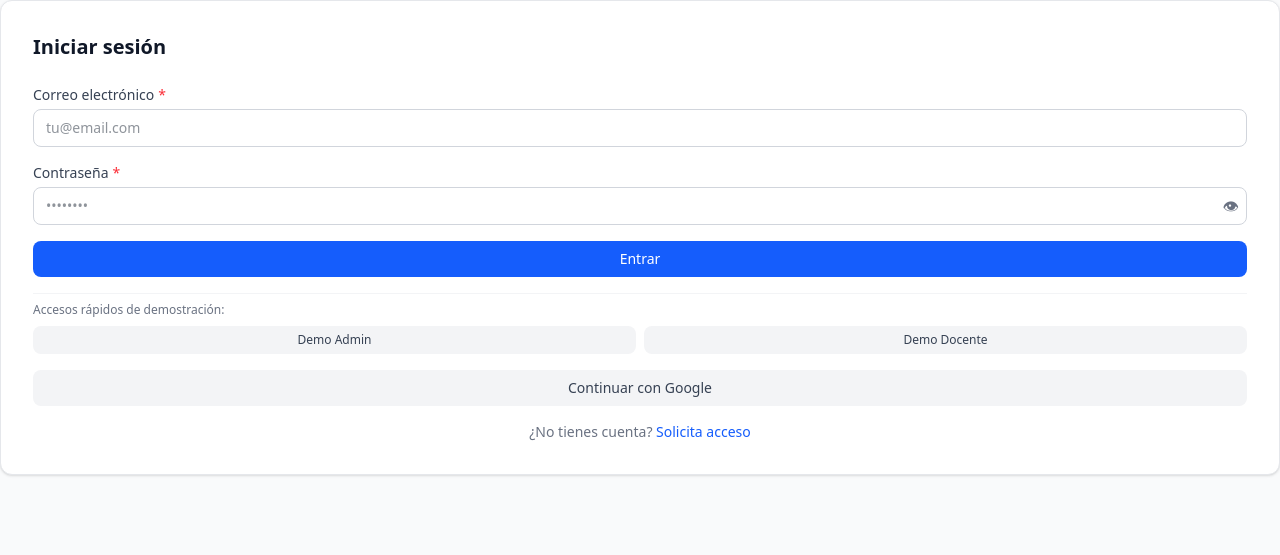
Test case: LoginPage › shows error on failed login
The image size is (1280, 555).
In the field labelled "Correo electrónico*": [640, 128] box [33,109,1247,147], type "test@example.com"
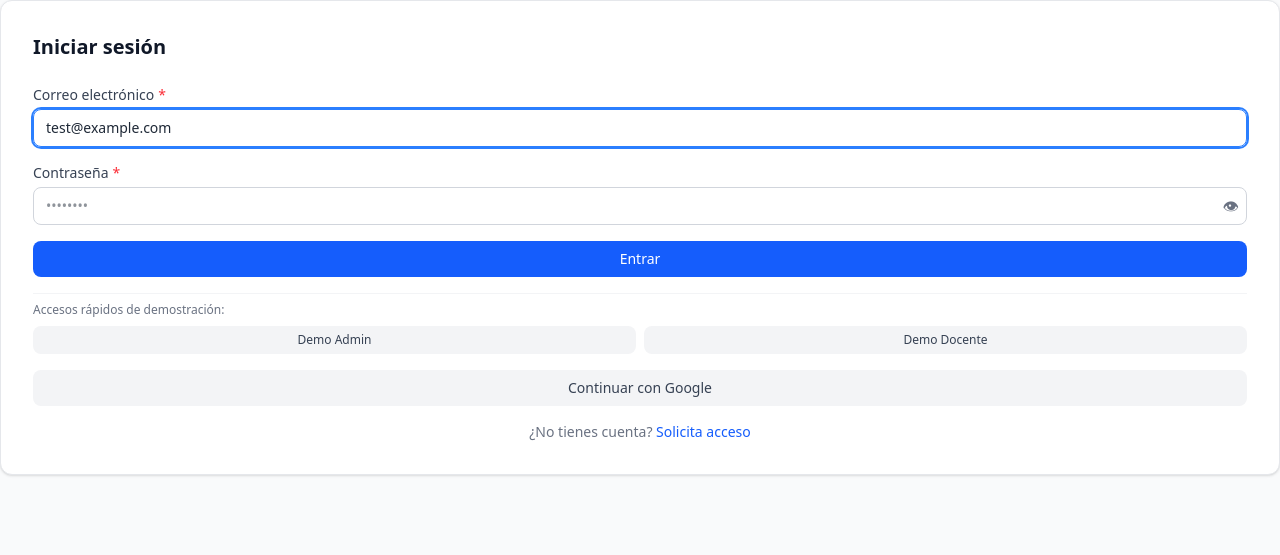
In the password field labelled "Contraseña*": [640, 206] box [33,187,1247,225], type "password123"
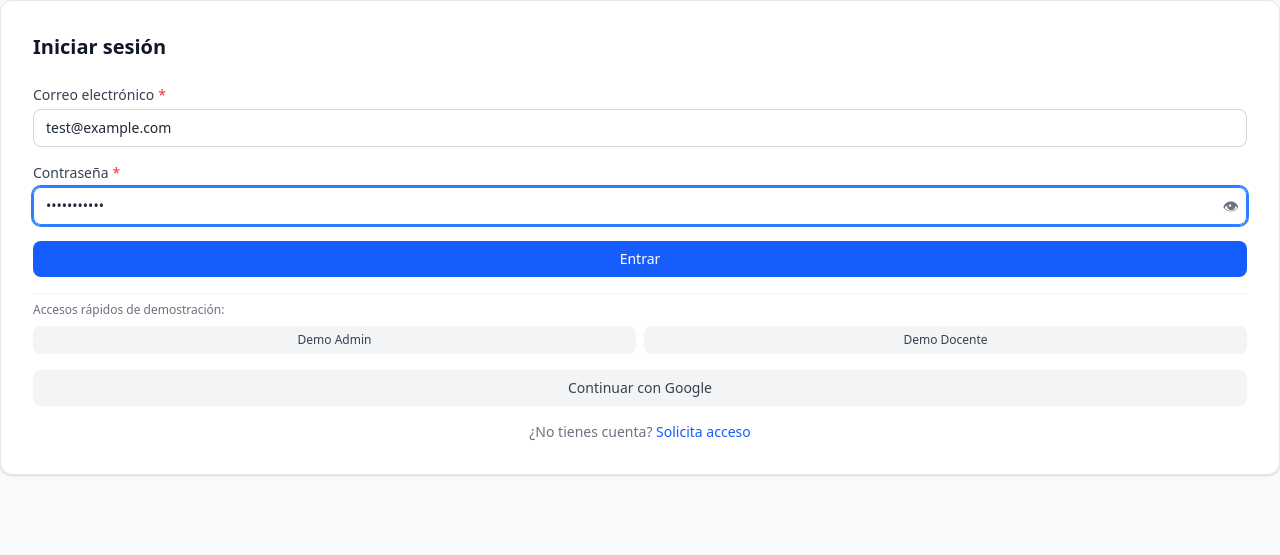
Click the button "Entrar": [640, 259] box [33,241,1247,277]
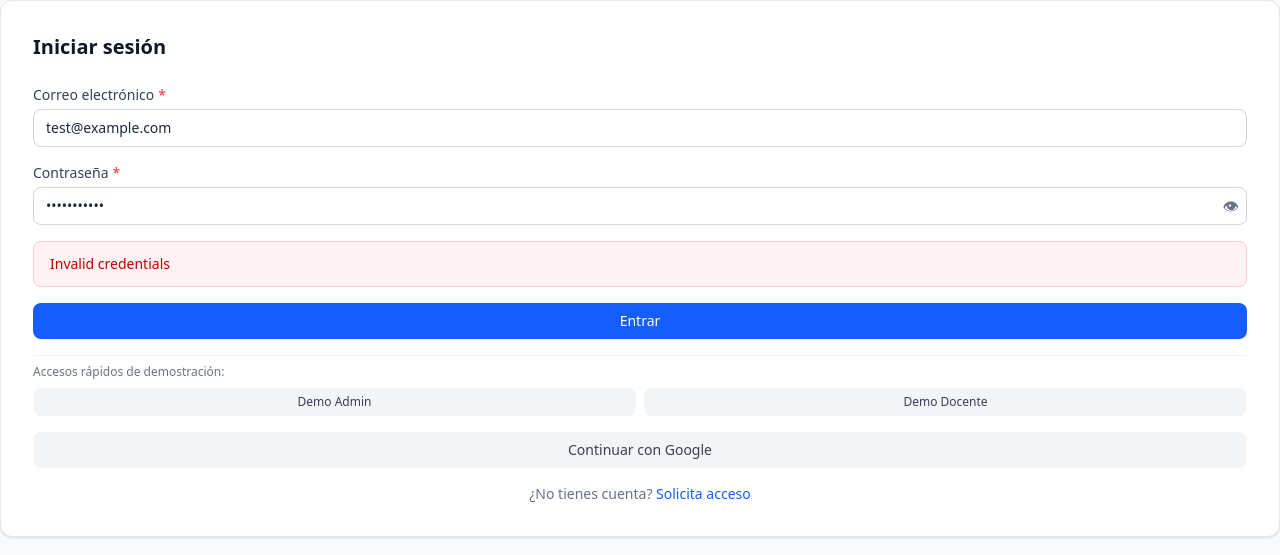
expect the message "Invalid credentials" is shown: met, box [33,241,1247,287]
